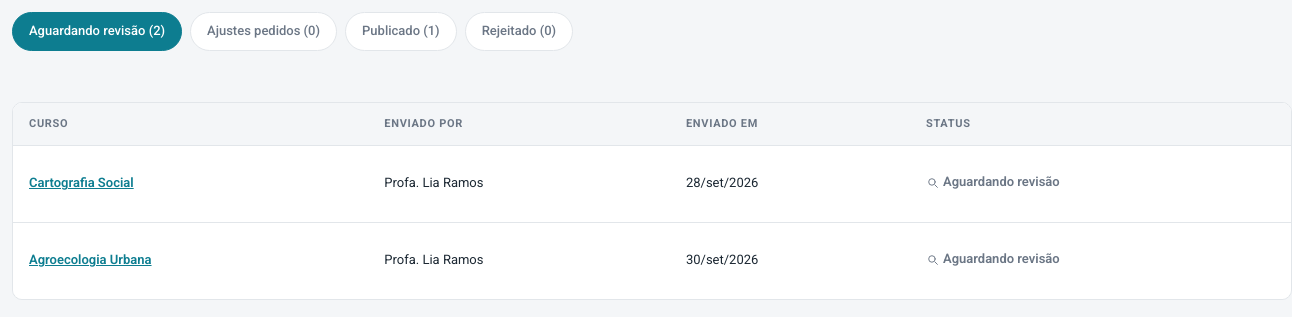
Test: CourseReviewWorkspace › says what would fill an empty filter
What coordinates should you click on to do the following:
click the button "Rejeitado (0)"
I would click on:
 (519, 31)
Its box is [465,12,573,51].
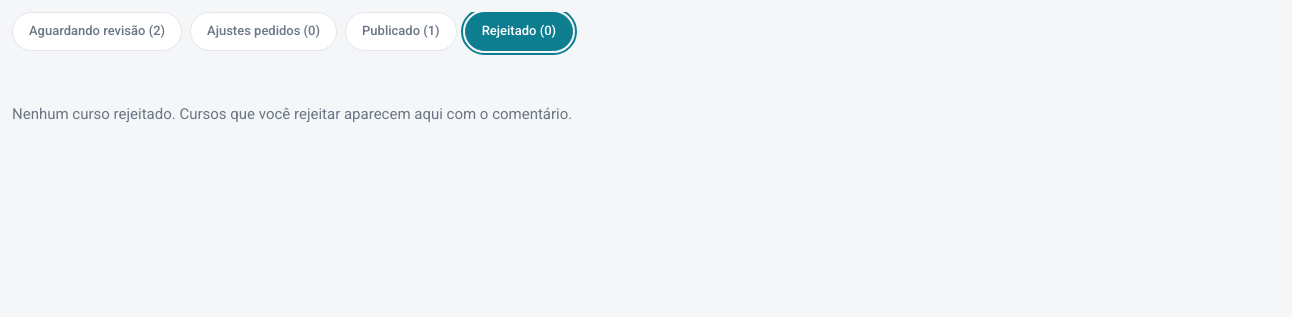
Check: the text "Cursos que você rejeitar aparecem aqui com o comentário" is shown, box [12,105,572,123]
